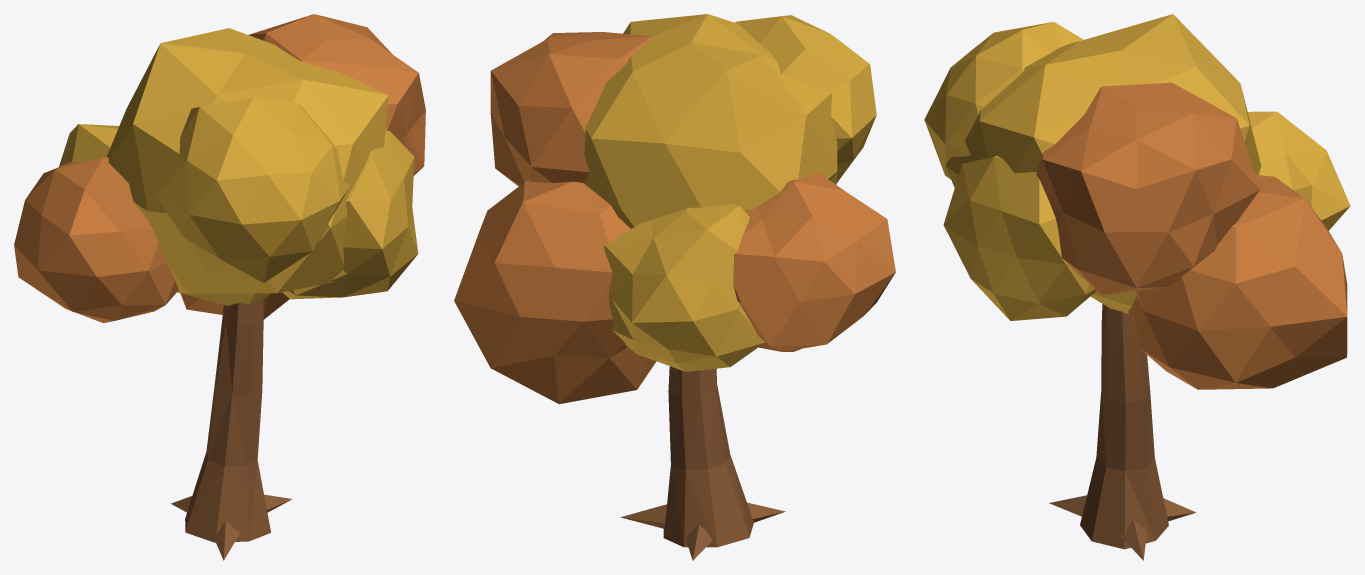
File: HS_LP_Tree_SugarMaple_01.fbx
3 renders of one model, left to right at view 1: azimuth 30°, elevation 25°; view 2: azimuth 150°, elevation 25°; view 3: azimuth 270°, elevation 25°, orthographic. The views are drawn at different scales.
Visible parts, largest first — view 1: HS_LP_Tree_SugarMaple_01; view 2: HS_LP_Tree_SugarMaple_01; view 3: HS_LP_Tree_SugarMaple_01.
Part boxes in pixels (left/top/right/bottom): HS_LP_Tree_SugarMaple_01: left=14, top=14, right=425, bottom=560; HS_LP_Tree_SugarMaple_01: left=454, top=14, right=895, bottom=560; HS_LP_Tree_SugarMaple_01: left=924, top=14, right=1350, bottom=560.
Bounding box in the file's own units: 449 × 546 × 427.
